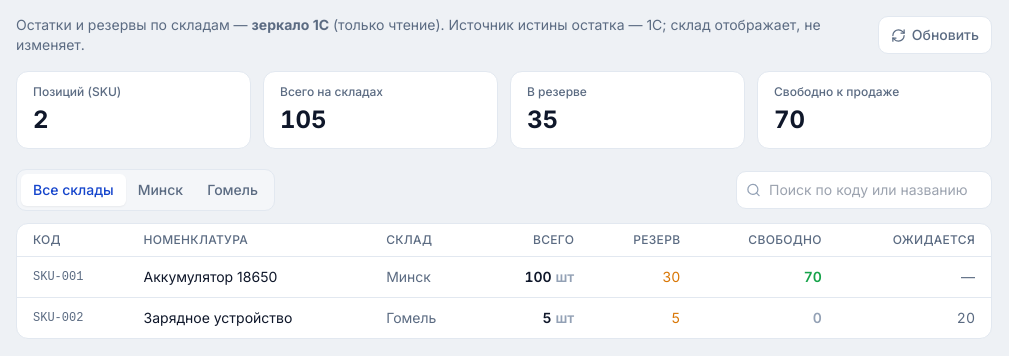
Test: WmsStockTable › фильтрует строки по складу при клике на таб
Click the button "Гомель" at point(232, 190), box [195,174,270,206]
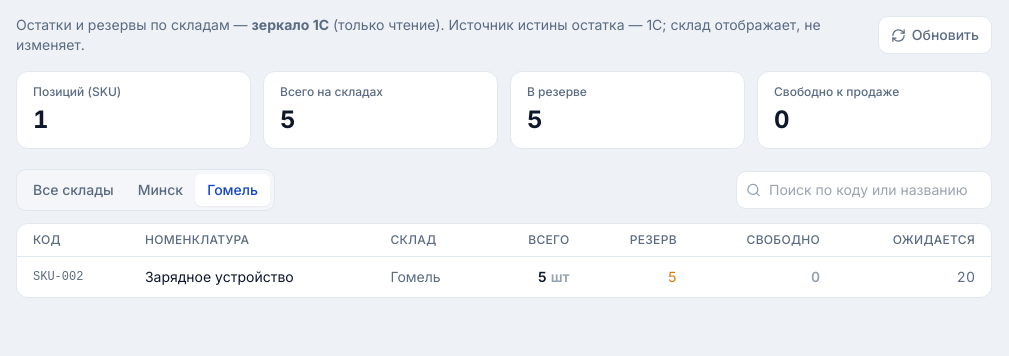
Expected: the text "SKU-002" is shown, [17,256,129,297]
Result: the text "SKU-001" is gone
# вернуться ко всем складам
Click the button "Все склады" at point(73, 190), box [21,174,126,206]
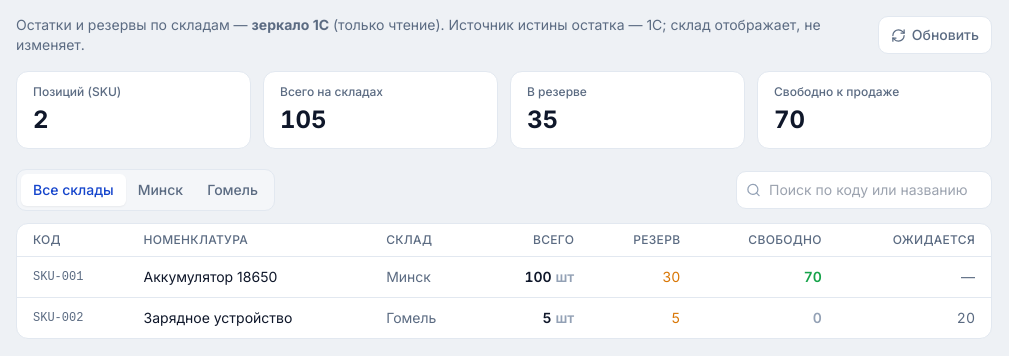
Expected: the text "SKU-002" is shown, [17,298,128,338]
Result: the text "SKU-001" is shown at [17,256,128,298]
